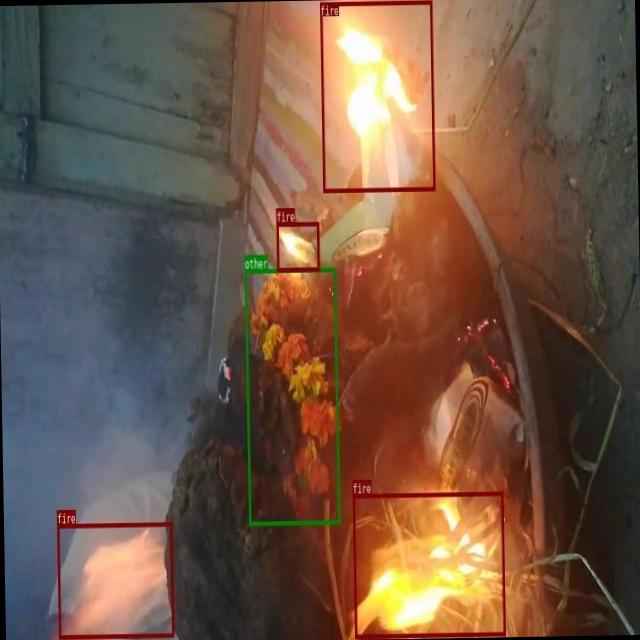fire: (352, 490, 505, 638), (319, 0, 434, 191), (56, 522, 174, 638), (275, 221, 319, 271)
